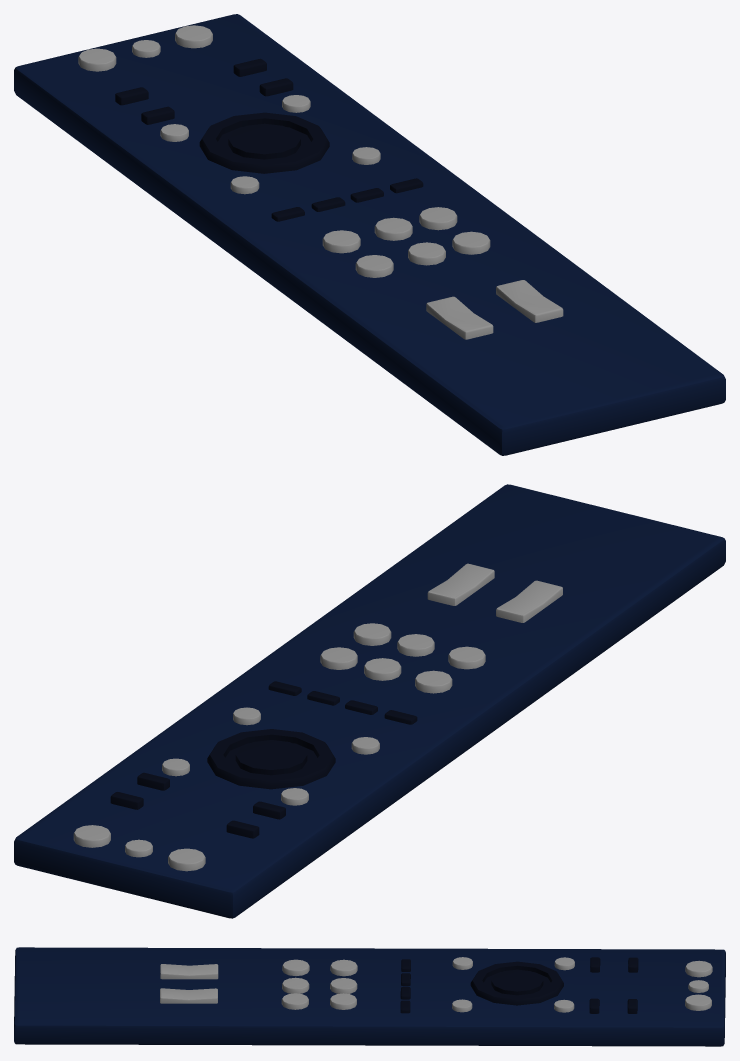
The model's file is TV_Remote.FBX.
3 renders of one model, top to bottom at view 1: azimuth 30°, elevation 25°; view 2: azimuth 150°, elevation 25°; view 3: azimuth 270°, elevation 25°, orthographic. The views are drawn at different scales.
Parts seen in each view (by area): view 1: Remote; view 2: Remote; view 3: Remote.
Boxes of the visible parts, x1,y1,x2,y2 form: Remote: (14,14,725,455); Remote: (14,484,725,918); Remote: (14,947,725,1046).
Bounding box in the file's own units: 0.0354 × 0.00532 × 0.1317.
